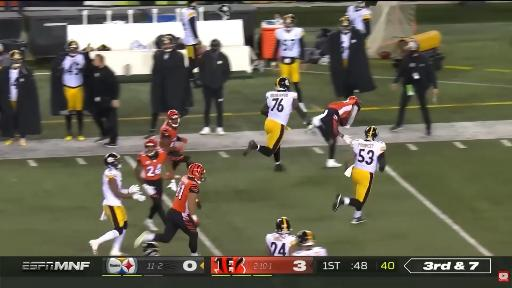Helmet: (188, 163, 206, 182), (104, 152, 122, 170), (297, 231, 315, 246), (276, 217, 291, 233), (142, 242, 159, 256), (9, 51, 22, 68), (275, 77, 290, 91), (162, 35, 177, 49), (145, 138, 157, 155), (339, 16, 351, 33), (167, 110, 179, 127), (65, 39, 79, 53), (365, 126, 378, 140), (283, 15, 295, 28), (348, 96, 360, 106), (347, 95, 360, 102), (356, 2, 365, 8)
Jersey: (351, 140, 386, 173), (172, 176, 199, 215), (266, 92, 297, 125), (275, 28, 305, 57), (138, 149, 166, 180), (62, 54, 85, 87), (103, 168, 122, 206), (266, 233, 296, 256), (346, 6, 371, 32), (181, 8, 198, 45), (159, 123, 178, 148), (328, 100, 355, 117), (9, 69, 19, 101), (292, 247, 327, 256)
Player: (135, 163, 205, 255), (244, 77, 306, 171), (89, 153, 145, 255), (333, 126, 386, 223), (52, 40, 92, 140), (308, 96, 360, 167), (135, 138, 171, 230), (272, 15, 306, 111), (159, 110, 191, 191), (181, 1, 201, 87), (266, 217, 296, 256), (292, 231, 327, 256), (346, 2, 371, 36), (143, 242, 159, 256)
